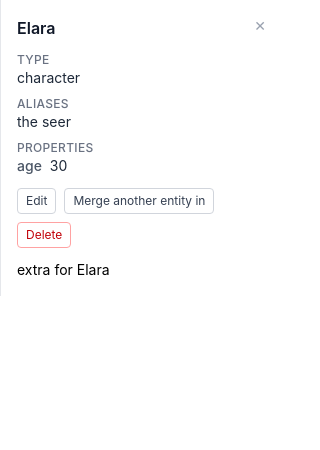
EntityEditPanel › renders renderReadExtras in read mode and hides it while editing
The image size is (320, 450).
Expected: the text with test id "read-extra" reads "extra for Elara", [17, 261, 110, 278]
Click the button with test id "node-panel-edit": click(37, 201) [17, 188, 56, 214]
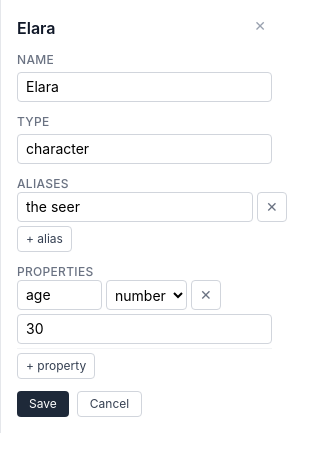
Now the text with test id "read-extra" is gone
